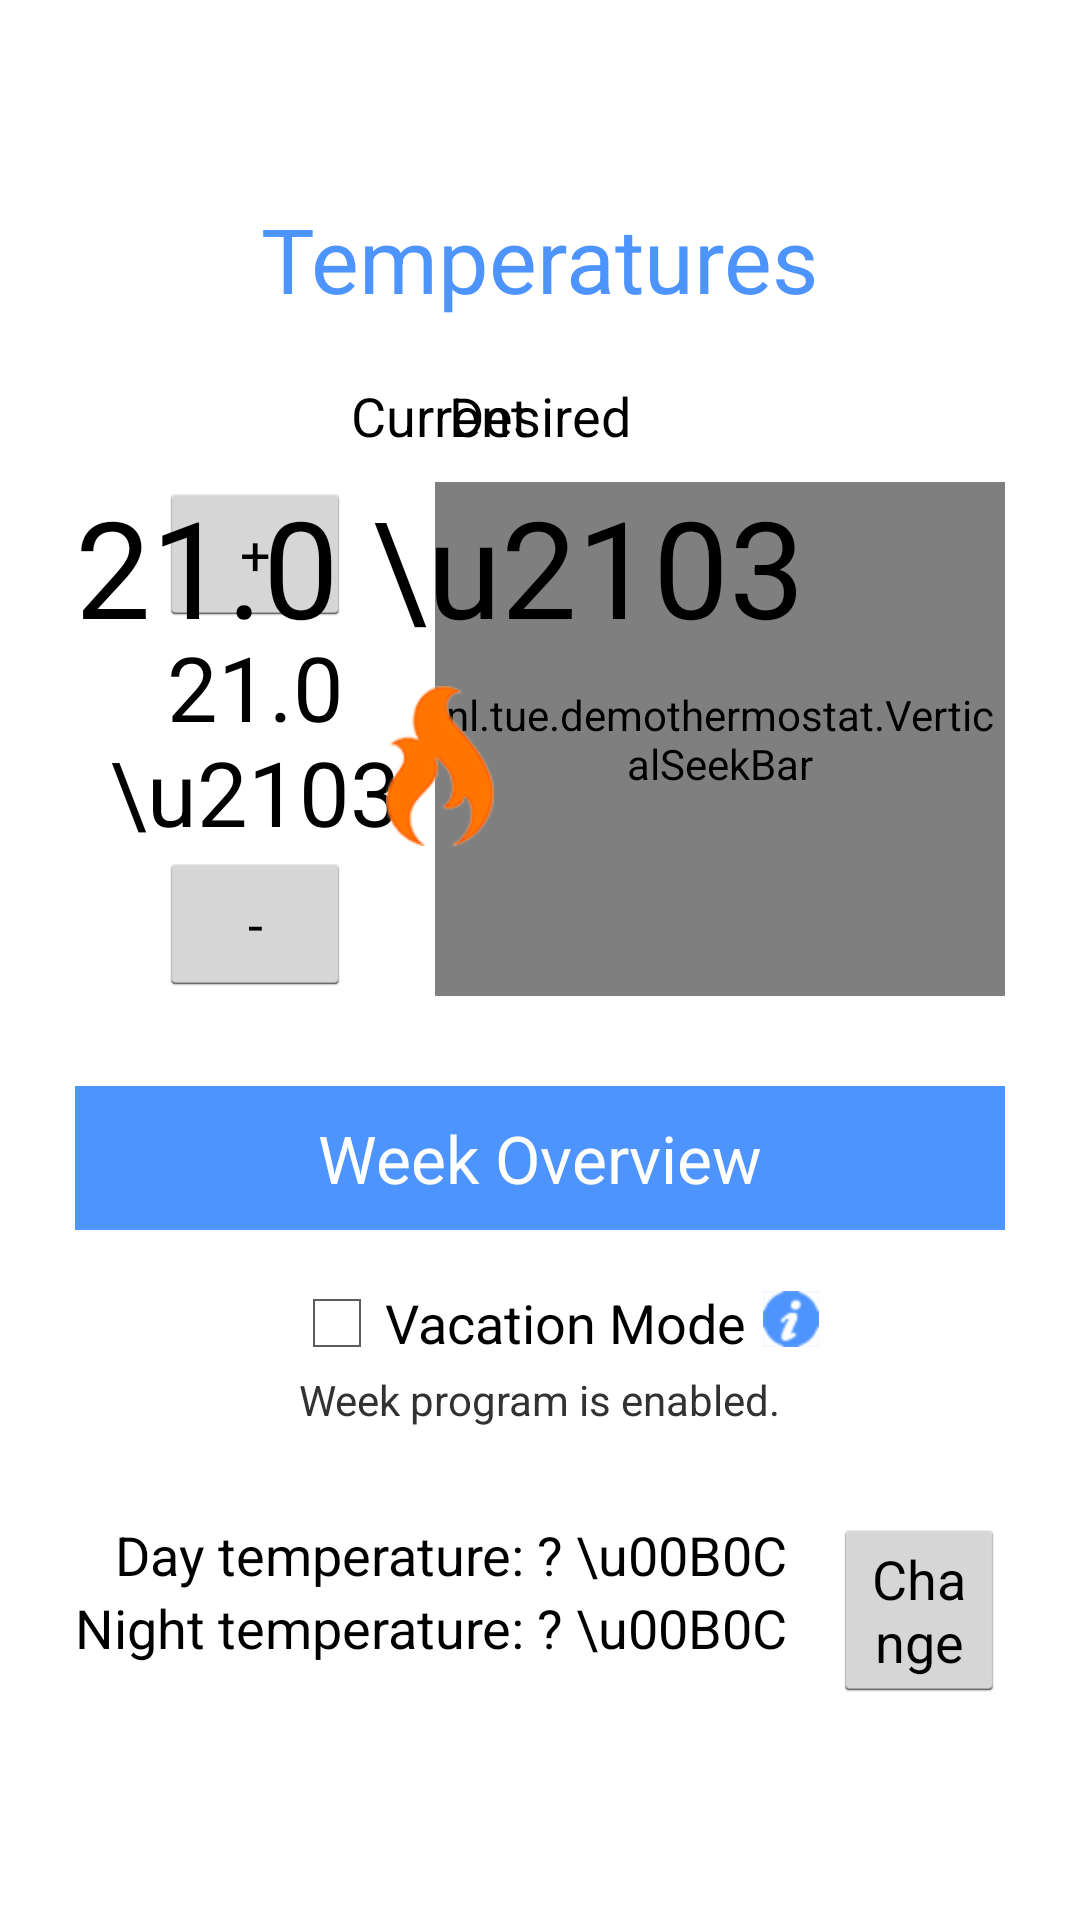

Icon click points for this 1080px×1920px phone screenshot, format point (x, y):
flame: point (440, 766)
info: point (791, 1319)
